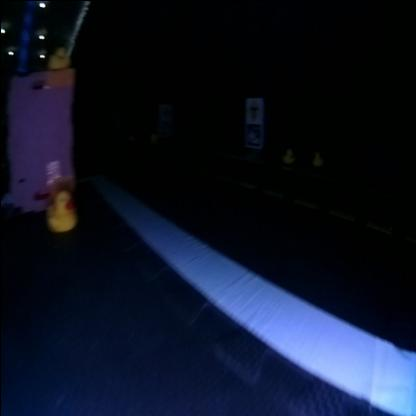Duckie: (45, 189, 77, 233), (48, 46, 68, 67), (312, 150, 322, 164), (282, 148, 292, 162)
Intersection sign: (245, 99, 260, 120)
QR code: (244, 124, 260, 146)
